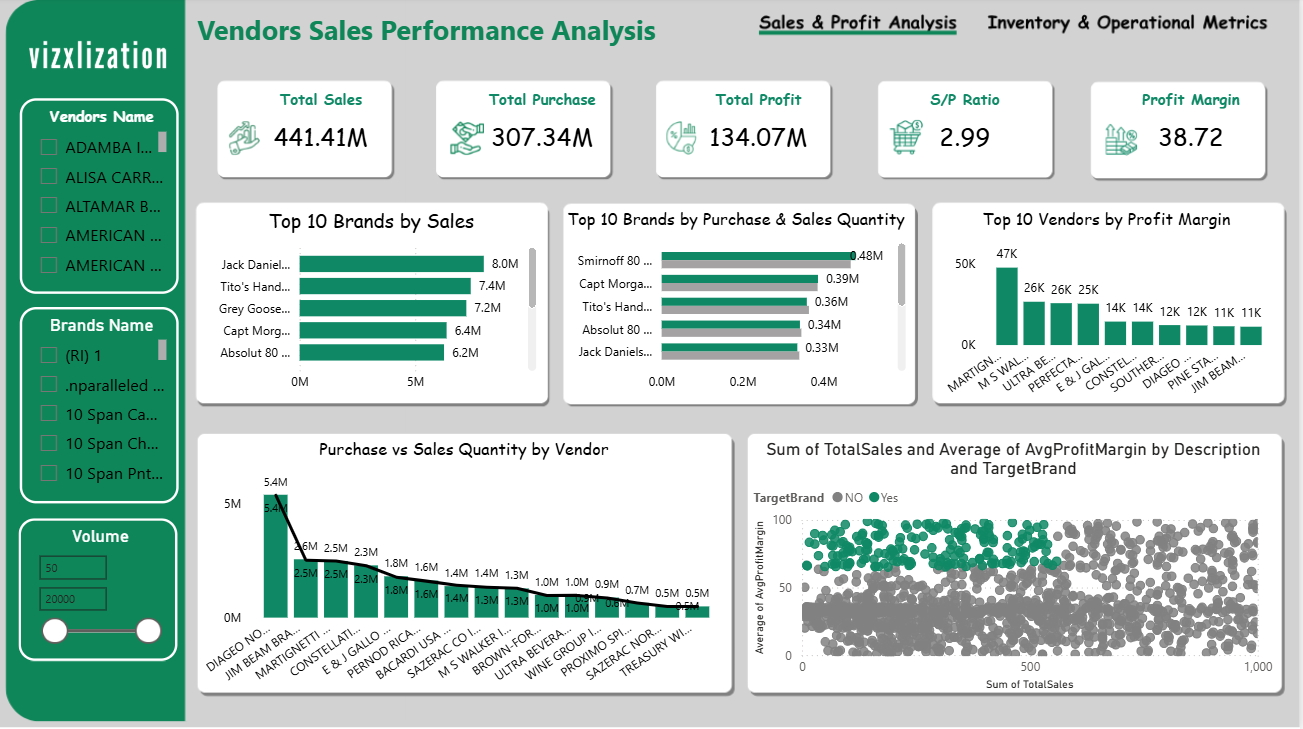

What the dashboard file says about the page in this screenshot:
{"tool":"powerbi","page":{"name":"Sales & Profit Analysis","canvas":[1280,720],"ordinal":0},"visuals":[{"type":"card","title":"Total Sales","fields":{"Values":["Sum(vendor_sale_summary.TotalSalesDollars)"]},"box":[257.1,90,122.9,77.1],"z":0},{"type":"card","title":"Total Purchase","fields":{"Values":["Sum(vendor_sale_summary.TotalPurchaseDollars)"]},"box":[474.3,90,122.9,77.1],"z":1000},{"type":"card","title":"Total Profit","fields":{"Values":["Sum(vendor_sale_summary.GrossProfit)"]},"box":[687.6,90,122.9,77.1],"z":2000},{"type":"card","title":"S/P Ratio","fields":{"Values":["Avg(vendor_sale_summary.SalestoPurchaseRatio)"]},"box":[890,90,123.1,76.9],"z":3000},{"type":"card","title":"Profit Margin","fields":{"Values":["Avg(vendor_sale_summary.ProfitMargin)"]},"box":[1111.4,90,122.9,77.1],"z":4000},{"type":"clusteredBarChart","title":"Top 10 Brands by Sales","fields":{"Category":["vendor_sale_summary.Description"],"Y":["Sum(vendor_sale_summary.TotalSalesDollars)"]},"box":[201.6,205.8,334.2,190],"z":5000},{"type":"clusteredBarChart","title":"Top 10 Brands by  Purchase & Sales Quantity","fields":{"Category":["vendor_sale_summary.Description"],"Y":["Sum(vendor_sale_summary.TotalSalesQuantity)","Sum(vendor_sale_summary.TotalPurchaseQuantity)"]},"box":[555,206.2,343.8,190],"z":6000},{"type":"columnChart","title":"Top 10 Vendors by Profit Margin","fields":{"Category":["vendor_sale_summary.VendorName"],"Y":["Sum(vendor_sale_summary.ProfitMargin)"]},"box":[921.4,205.7,337.1,195.7],"z":7000},{"type":"lineStackedColumnComboChart","title":"Purchase vs Sales Quantity by Vendor","fields":{"Y":["Sum(vendor_sale_summary.TotalPurchaseQuantity)"],"Category":["vendor_sale_summary.VendorName"],"Y2":["Sum(vendor_sale_summary.TotalSalesQuantity)"]},"box":[201.2,432.5,516.2,252.5],"z":8000},{"type":"scatterChart","fields":{"Category":["BrandPerformance.Description"],"X":["Sum(BrandPerformance.TotalSales)"],"Series":["BrandPerformance.TargetBrand"],"Y":["Avg(BrandPerformance.AvgProfitMargin)"]},"box":[738.6,432.9,520,252.9],"z":10000},{"type":"image","box":[16,34,169,47],"z":10001},{"type":"slicer","title":"Vendors Name","fields":{"Values":["vendor_sale_summary.VendorName"]},"box":[23,99,156,192],"z":10002},{"type":"slicer","title":"Brands Name","fields":{"Values":["vendor_sale_summary.Description"]},"box":[23,304,156,193],"z":10003},{"type":"slicer","title":"Volume","fields":{"Values":["vendor_sale_summary.Volume"]},"box":[22.5,511.2,156.2,140],"z":10004},{"type":"textbox","box":[192.7,8.2,476.4,49.1],"z":10005},{"type":"actionButton","box":[962.9,8.6,295.7,40],"z":10006}]}

Visuals, with their boxes in screenshot pixels (x1, y1, x2, y2), scaled from the page's 1280x720 canvas onto the 1303x729 screenshot:
"Total Sales" card: (left=262, top=91, right=387, bottom=169)
"Total Purchase" card: (left=483, top=91, right=608, bottom=169)
"Total Profit" card: (left=700, top=91, right=825, bottom=169)
"S/P Ratio" card: (left=906, top=91, right=1031, bottom=169)
"Profit Margin" card: (left=1131, top=91, right=1256, bottom=169)
"Top 10 Brands by Sales" clusteredBarChart: (left=205, top=208, right=545, bottom=401)
"Top 10 Brands by  Purchase & Sales Quantity" clusteredBarChart: (left=565, top=209, right=915, bottom=401)
"Top 10 Vendors by Profit Margin" columnChart: (left=938, top=208, right=1281, bottom=406)
"Purchase vs Sales Quantity by Vendor" lineStackedColumnComboChart: (left=205, top=438, right=730, bottom=694)
scatterChart - BrandPerformance.Description x Sum(BrandPerformance.TotalSales): (left=752, top=438, right=1281, bottom=694)
image: (left=16, top=34, right=188, bottom=82)
"Vendors Name" slicer: (left=23, top=100, right=182, bottom=295)
"Brands Name" slicer: (left=23, top=308, right=182, bottom=503)
"Volume" slicer: (left=23, top=518, right=182, bottom=659)
textbox: (left=196, top=8, right=681, bottom=58)
actionButton: (left=980, top=9, right=1281, bottom=49)
